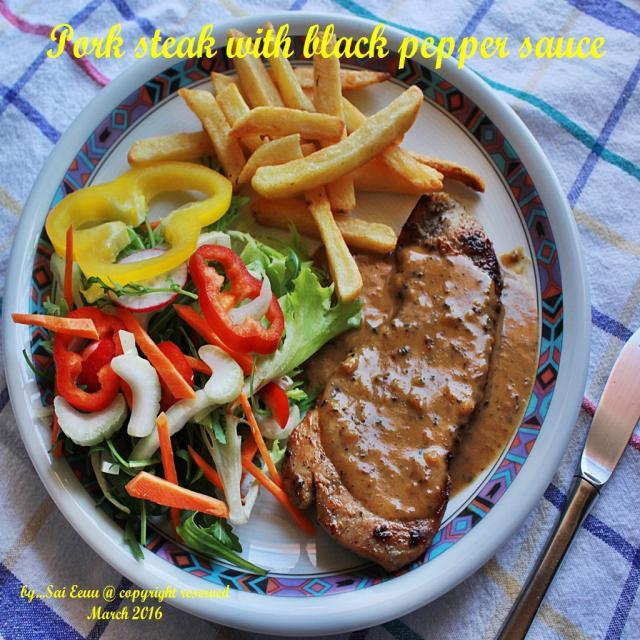cac loai rau cu: (43, 159, 367, 556)
khoai tay chien: (140, 20, 495, 300)
thit heo: (277, 189, 515, 576)
thit lon bistek: (13, 10, 525, 584)
